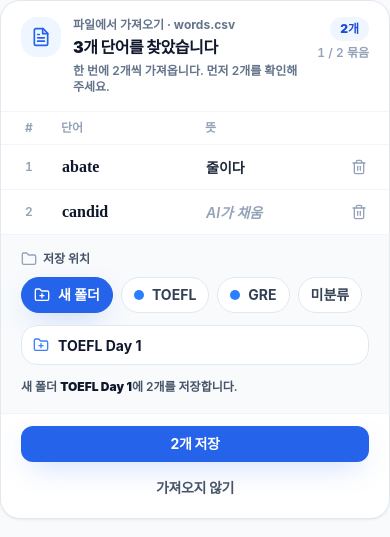
Test case: AiFileImportCard › removing a row shrinks the approved count and an empty list cannot be saved
Click the button named "abate 빼기". click: (359, 167)
box: [343,151,375,183]
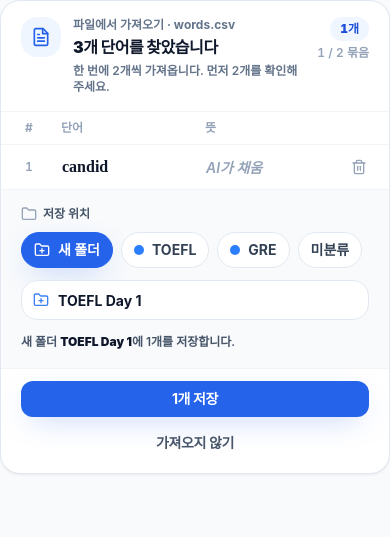
Click the button named "candid 빼기". click: (359, 167)
box: [343,151,375,183]
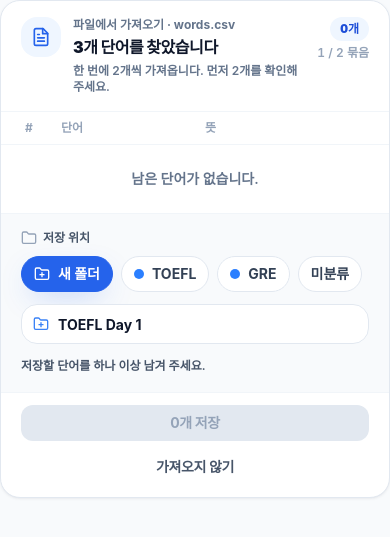
Expected: the text "남은 단어가 없습니다." is shown, [131,170,259,187]
Expected: the button "0개 저장" is disabled, [21,405,369,441]
